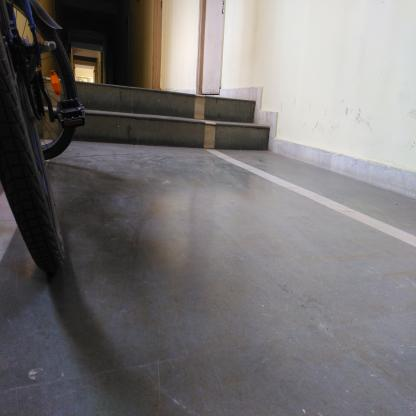stairs: (89, 92, 247, 152)
